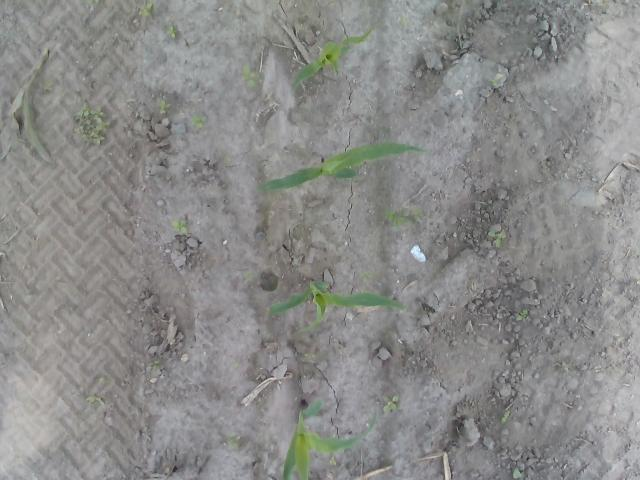Maize: (258, 140, 428, 194), (280, 395, 377, 480), (268, 272, 407, 330), (287, 25, 373, 96)
Weeds: (77, 101, 111, 147), (383, 206, 424, 230), (242, 63, 258, 89), (138, 0, 158, 19), (382, 394, 400, 414), (488, 229, 506, 249), (190, 112, 210, 130), (227, 433, 242, 448), (172, 219, 186, 234), (158, 100, 172, 114), (166, 24, 178, 40), (360, 272, 376, 283), (516, 308, 528, 321), (244, 270, 256, 282), (512, 468, 524, 480), (303, 350, 316, 360), (150, 359, 162, 369), (86, 396, 96, 407), (329, 456, 336, 466), (501, 415, 508, 425), (490, 79, 498, 87)
